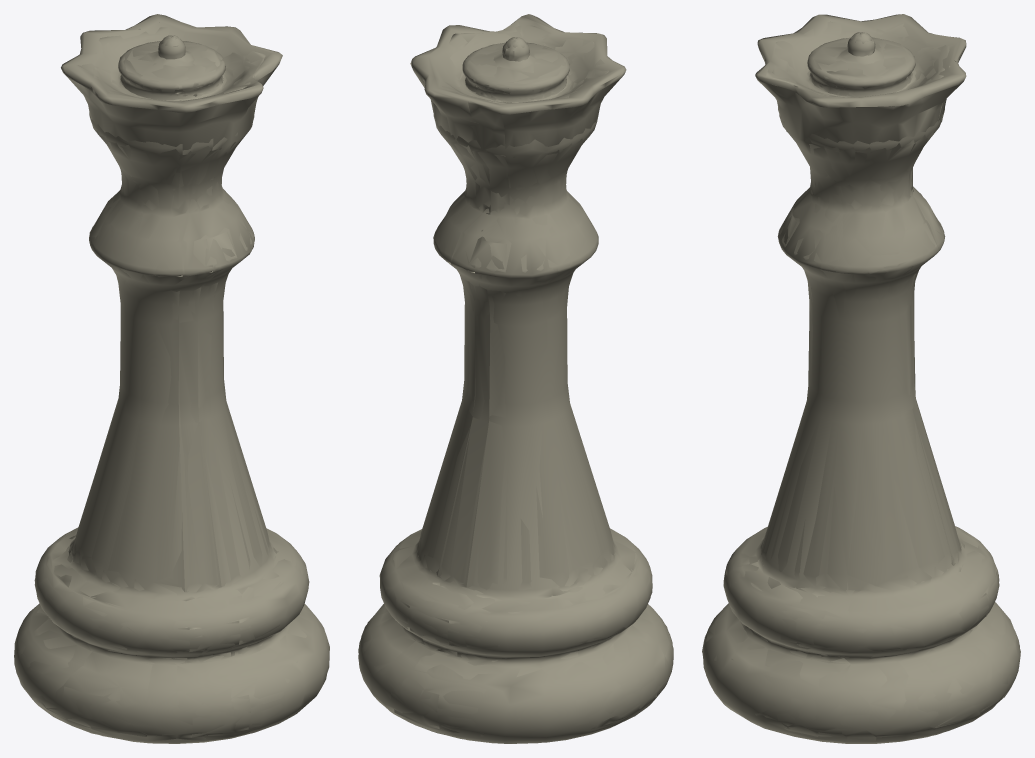
The model's file is Queen.FBX.
The picture shows the model from 3 angles, left to right: view 1: azimuth 30°, elevation 25°; view 2: azimuth 150°, elevation 25°; view 3: azimuth 270°, elevation 25°; orthographic projection.
Visible parts, largest first — view 1: Queen; view 2: Queen; view 3: Queen.
Part boxes in pixels (x1=…): Queen: x1=14, y1=14, x2=329, y2=743; Queen: x1=358, y1=14, x2=673, y2=743; Queen: x1=702, y1=14, x2=1020, y2=743.
Size of the model in its own units: 157 by 360 by 158.
